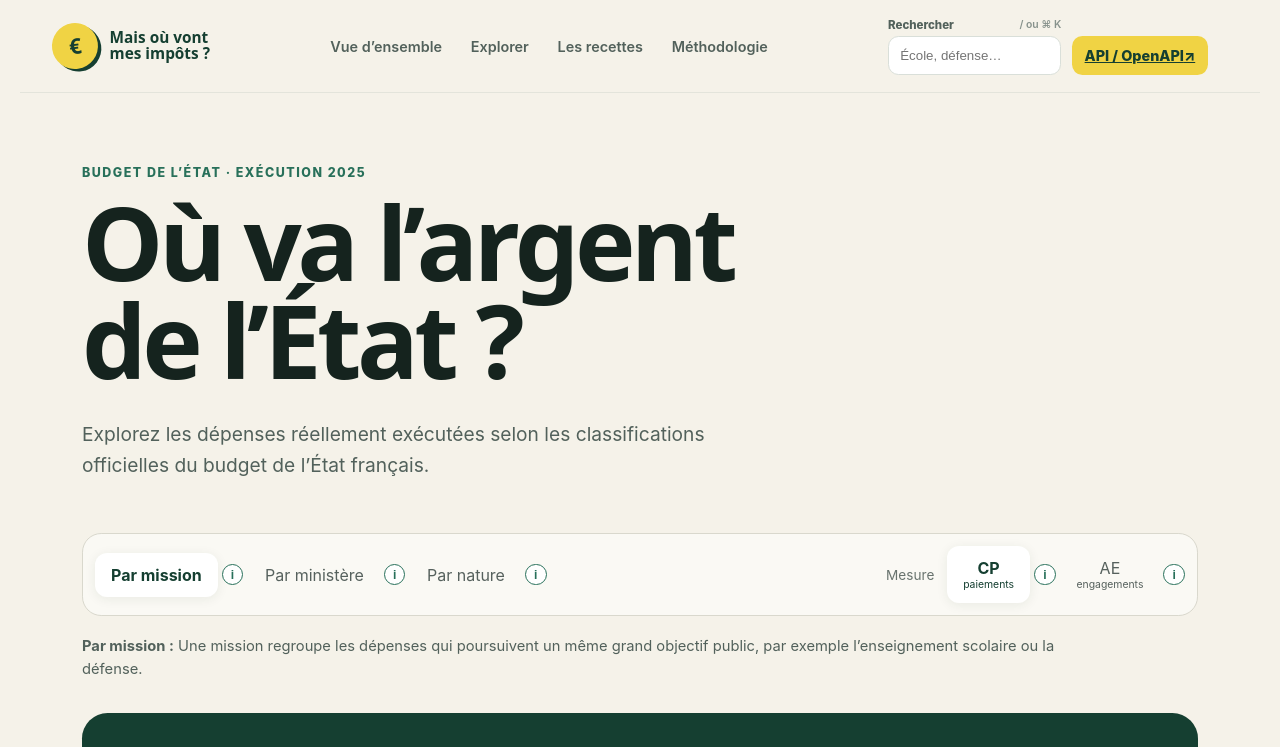
it: App › affiche les dépenses et leur provenance
Expected: the heading "Où va l’argent de l’État ?" is shown, [82, 193, 812, 390]
Expected: the link with class "api-link" shows "API / OpenAPI", [1072, 36, 1208, 75]
Click the heading named "Comprendre CP" at (1045, 575), box [1034, 564, 1056, 585]
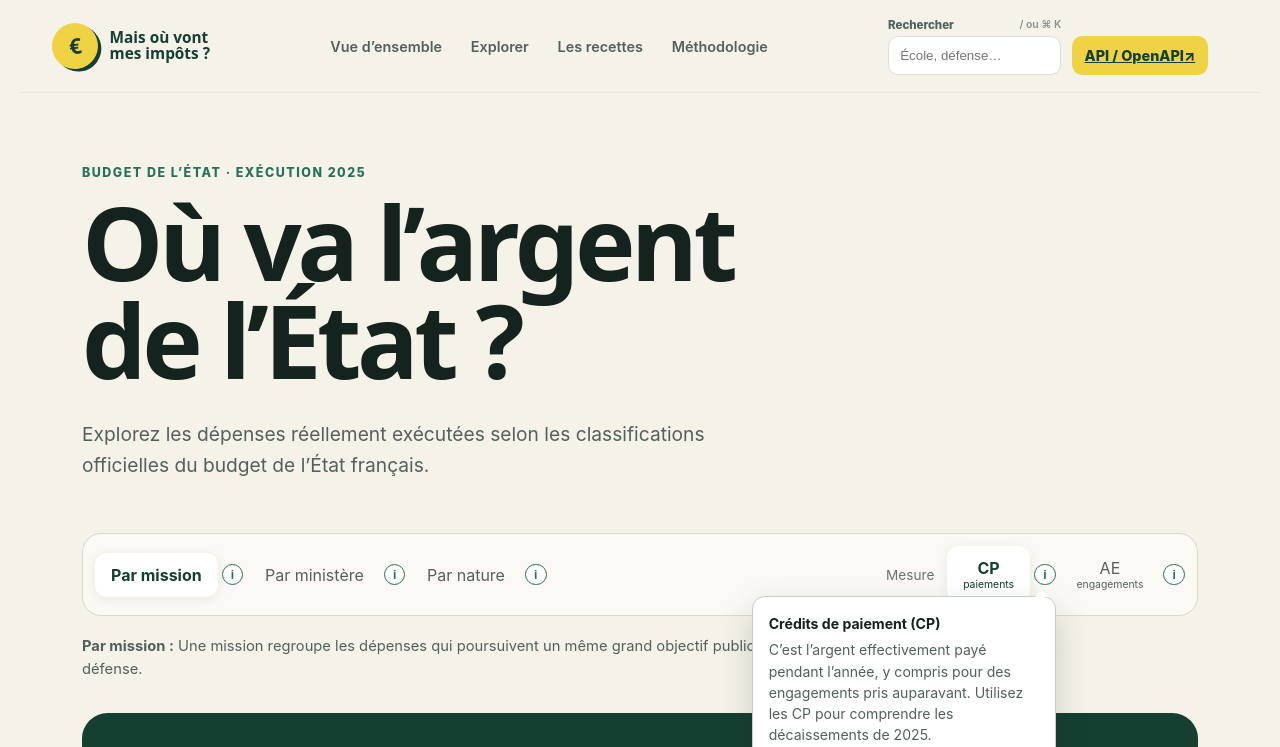
Expected: the text "Crédits de paiement" is shown, [769, 615, 940, 632]
